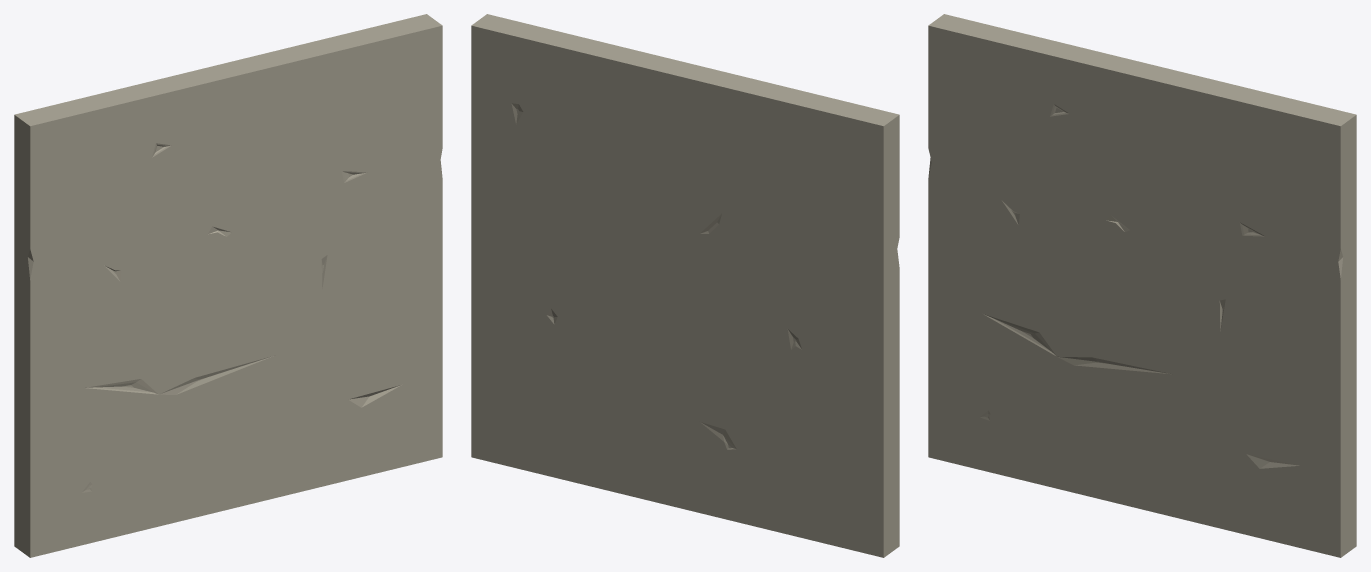
The model's file is victorian_wall_stone_1.fbx.
3 views of the same model, side by side, from view 1: azimuth 30°, elevation 25°; view 2: azimuth 150°, elevation 25°; view 3: azimuth 330°, elevation 25° (orthographic).
Parts seen in each view (by area): view 1: Cube.245; view 2: Cube.245; view 3: Cube.245.
Boxes of the visible parts, x1=… form: Cube.245: x1=14, y1=14, x2=442, y2=557; Cube.245: x1=471, y1=14, x2=899, y2=557; Cube.245: x1=928, y1=14, x2=1356, y2=557.
Size of the model in its own units: 300 by 300 by 20.
